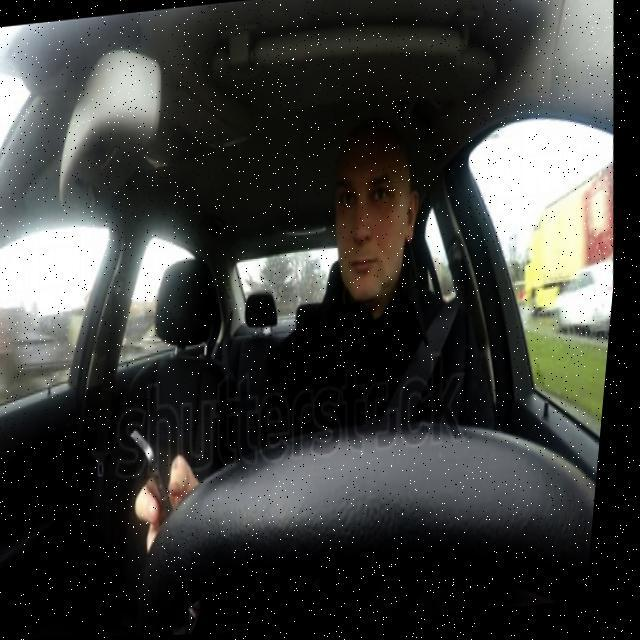PhoneCall: (130, 421, 190, 536)
